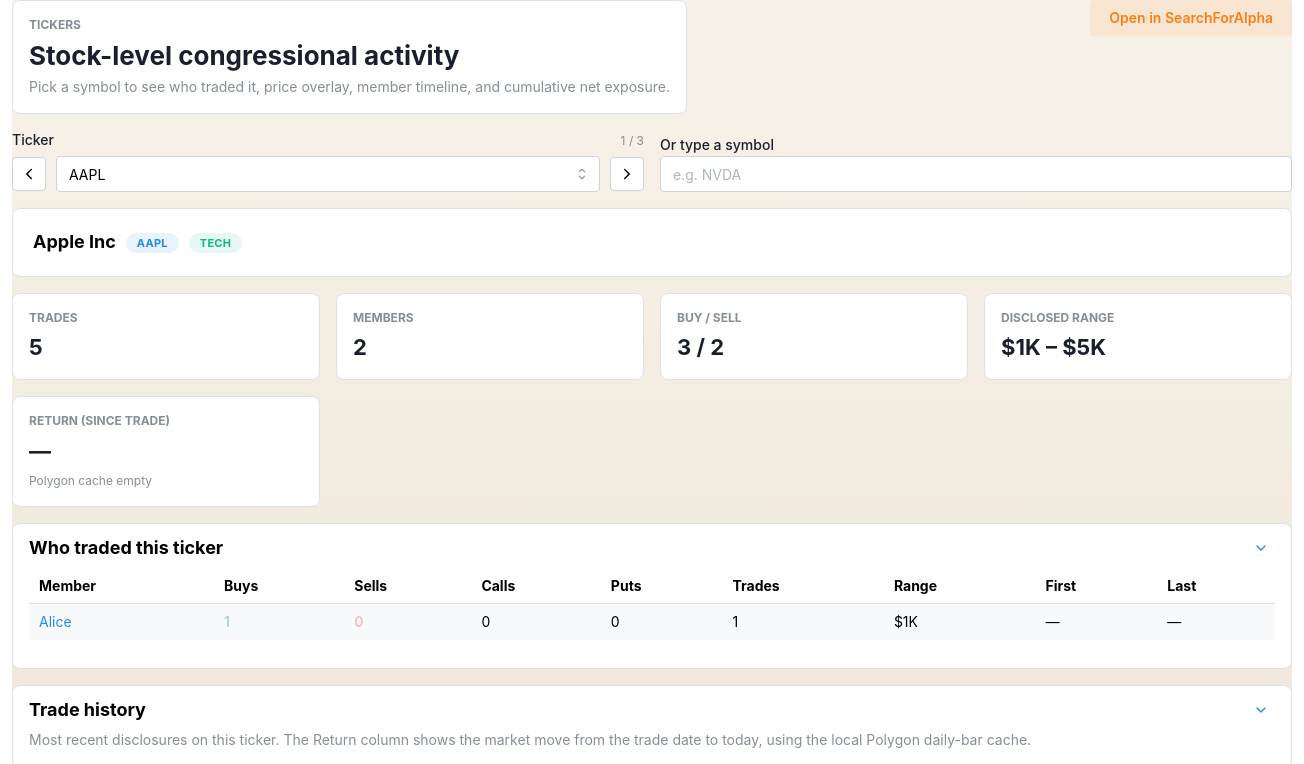
it: Tickers route › cycles tickers with prev/next arrows
Check: the text with test id "tickers-nav-position" reads "1 / 3", box left=621, top=133, right=644, bottom=150
Click the button with test id "tickers-next" at (627, 174), box left=610, top=158, right=644, bottom=192
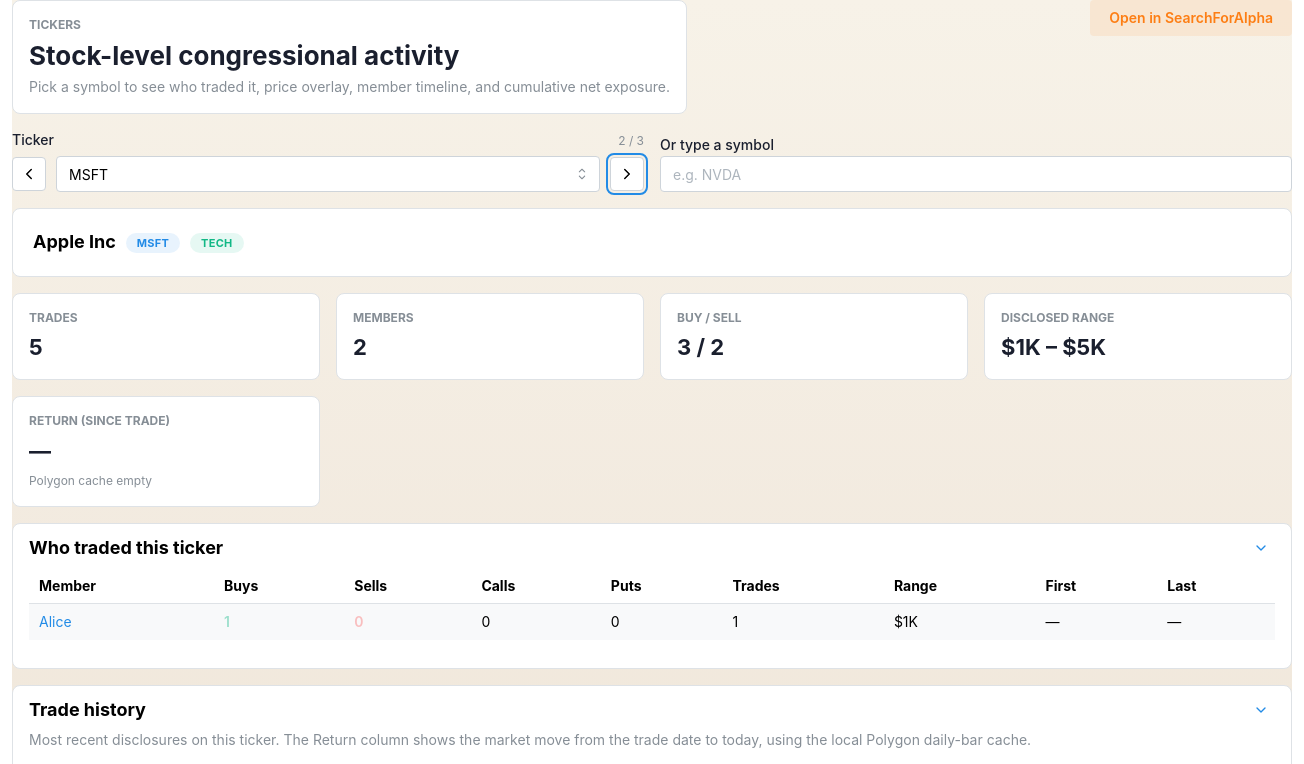
Check: the text with test id "tickers-nav-position" reads "2 / 3", box left=618, top=133, right=644, bottom=150
Check: the field with test id "tickers-select" holds "MSFT", box left=56, top=156, right=600, bottom=192
Click the button with test id "tickers-prev" at (29, 174), box left=12, top=158, right=46, bottom=192
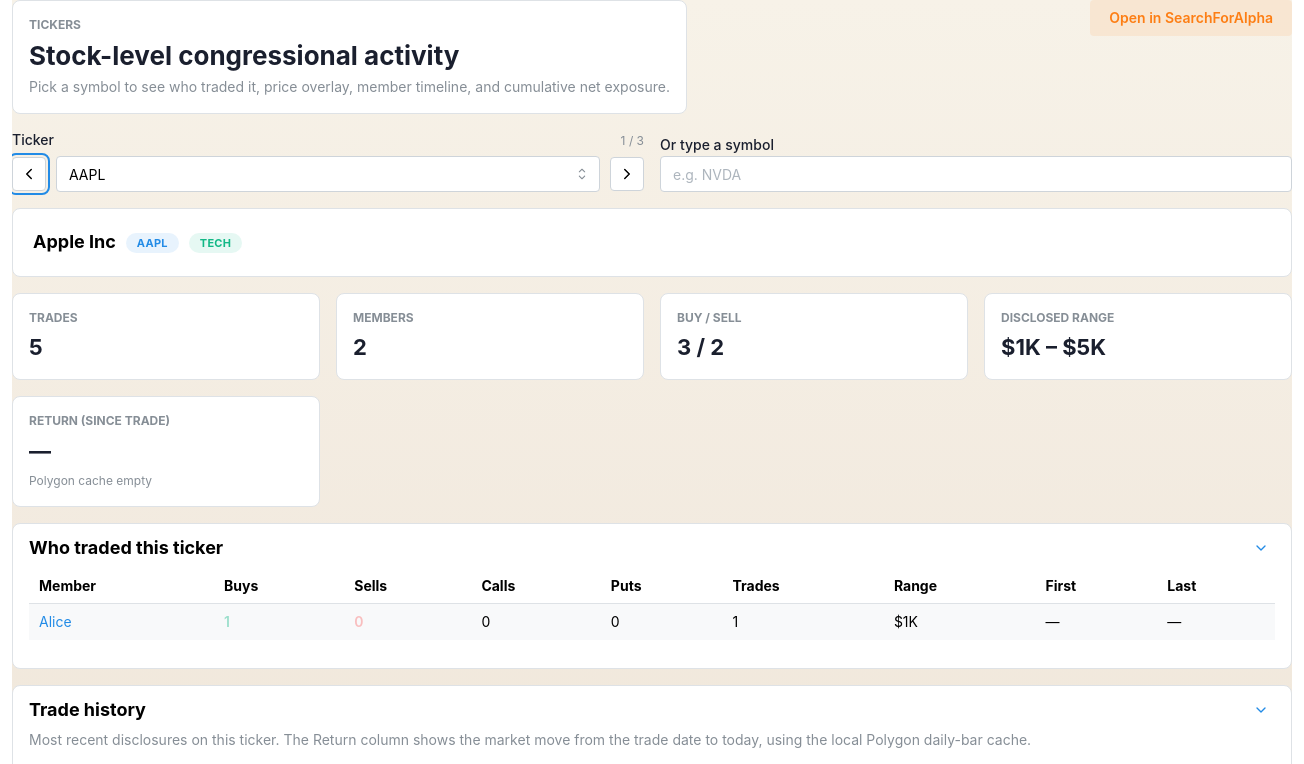
Check: the text with test id "tickers-nav-position" reads "1 / 3", box left=621, top=133, right=644, bottom=150
